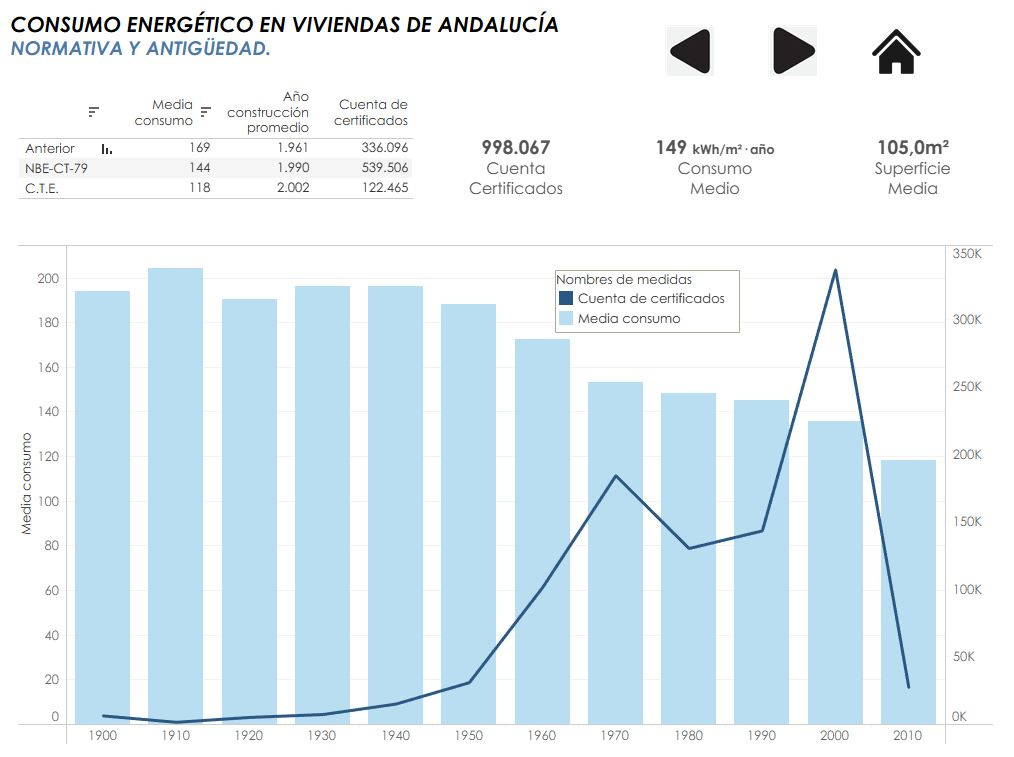

The dashboard page shown, as its layout file describes it:
{"tool":"tableau","page":{"name":"Normativa y antigüedad","canvas":[1024,768],"ordinal":3},"visuals":[{"type":"text","box":[10,10,873,69]},{"type":"dashboard-object","box":[640,30,104,60]},{"type":"dashboard-object","box":[744,30,103,60]},{"type":"dashboard-object","box":[847,30,103,60]},{"type":"worksheet","title":"Normativas","mark":"Automatic","rows":["normativa"],"box":[21,95,394,126]},{"type":"worksheet","title":"KPI Cuenta certificados","mark":"Automatic","box":[418,124,198.7,106]},{"type":"worksheet","title":"KPI consumo medio","mark":"Automatic","box":[616.7,124,198.7,106]},{"type":"worksheet","title":"KPI superficie media","mark":"Automatic","box":[815.3,124,198.7,106]},{"type":"worksheet","title":"Decadas","mark":"Line","rows":["Calculation_0692752052609024","df_analisis_bi.csv_0088A7C0ACD540169456925EF5CD412D"],"cols":["Calculation_1431074093543424"],"box":[20,254,976,500]},{"type":"legend","title":"Decadas","param":"[federated.1xgbplu0u0l5i61913jd10sdry8a].[:Measure Names]","box":[557,279,185,63]}]}

Visuals, with their boxes in screenshot pixels (x1, y1, x2, y2), scaled from the page's 1024x768 canvas onto the 1014x757 screenshot:
text: <box>10,10,874,78</box>
dashboard-object: <box>634,30,737,89</box>
dashboard-object: <box>737,30,839,89</box>
dashboard-object: <box>839,30,941,89</box>
"Normativas" worksheet: <box>21,94,411,218</box>
"KPI Cuenta certificados" worksheet: <box>414,122,611,227</box>
"KPI consumo medio" worksheet: <box>611,122,807,227</box>
"KPI superficie media" worksheet: <box>807,122,1004,227</box>
"Decadas" worksheet (Line marks): <box>20,250,986,743</box>
"Decadas" legend: <box>552,275,735,337</box>
